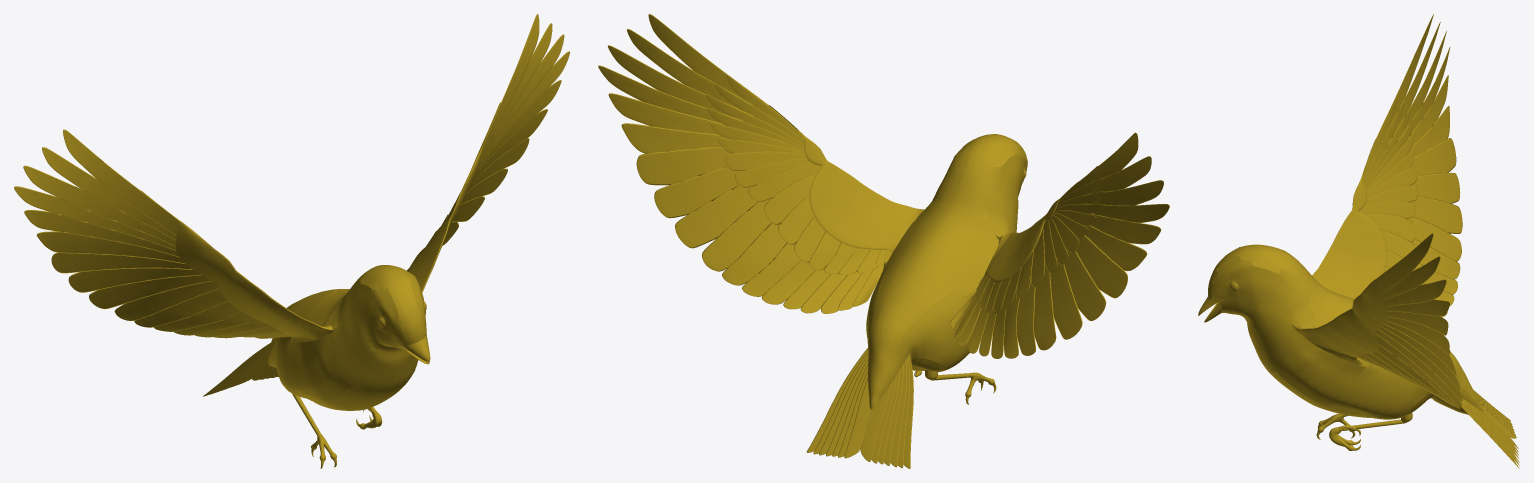
The picture shows the model from 3 angles, left to right: view 1: azimuth 30°, elevation 25°; view 2: azimuth 150°, elevation 25°; view 3: azimuth 270°, elevation 25°; orthographic projection. The views are drawn at different scales.
Parts seen in each view (by area): view 1: bird_1Figu; view 2: bird_1Figu; view 3: bird_1Figu.
Part boxes in pixels (x1=…): bird_1Figu: x1=14, y1=14, x2=569, y2=468; bird_1Figu: x1=598, y1=14, x2=1169, y2=468; bird_1Figu: x1=1198, y1=14, x2=1519, y2=468.
Size of the model in its own units: 56.45 by 33.63 by 29.77.
